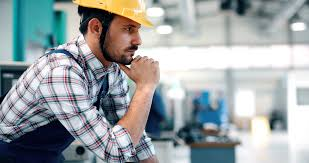Person_wearing_helmet: (69, 0, 154, 34)
